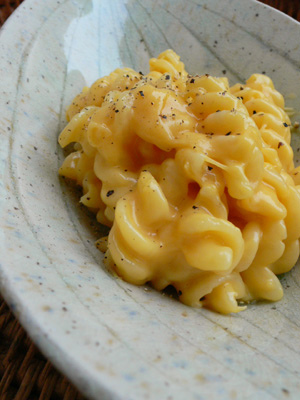macncheese: (55, 47, 299, 316)
